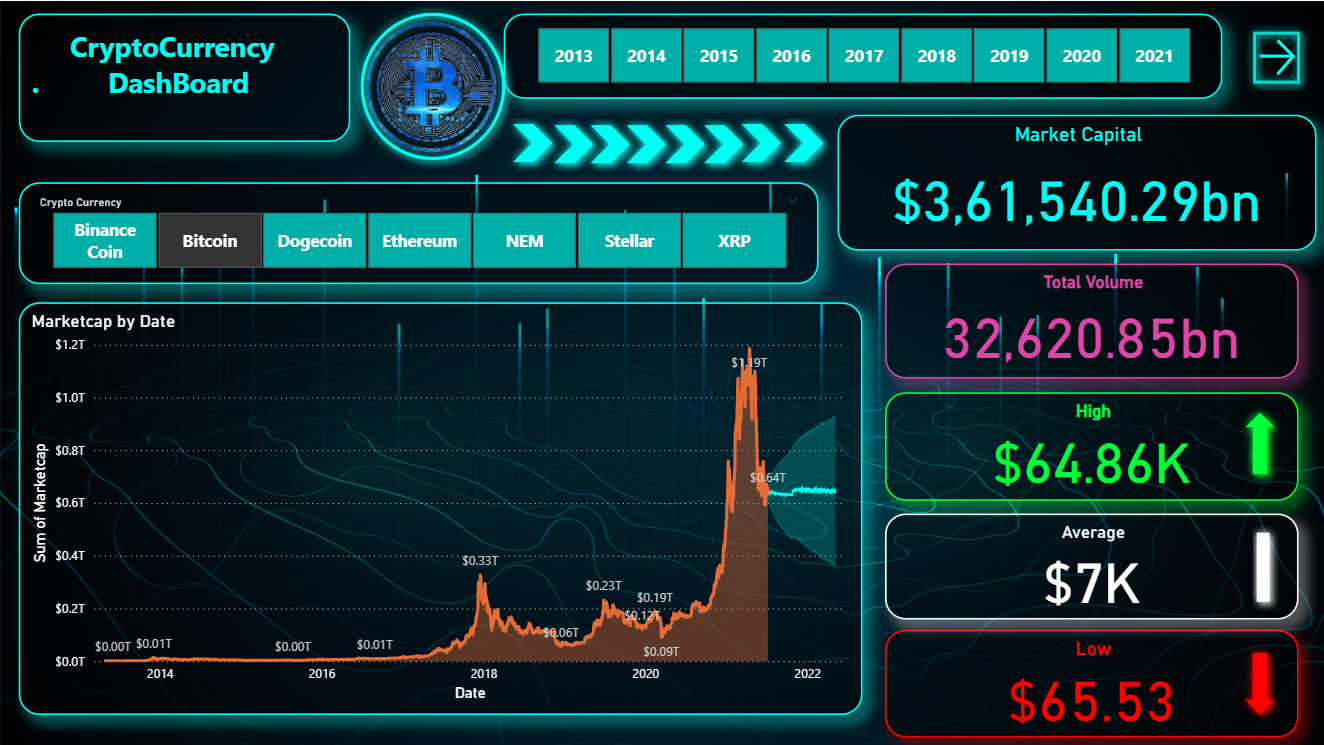

What the dashboard file says about the page in this screenshot:
{"tool":"powerbi","page":{"name":"Market Capital","canvas":[1280,720],"ordinal":1},"visuals":[{"type":"slicer","fields":{"Values":["data.Name"]},"box":[18.6,175,772.1,98.1],"z":0},{"type":"slicer","fields":{"Values":["data.Year"]},"box":[486.2,12.1,693.7,82],"z":1000},{"type":"lineChart","title":"Marketcap by Date","fields":{"Category":["data.Date"],"Y":["Sum(data.Marketcap)"]},"box":[18.6,290.5,814.3,398.5],"z":2000},{"type":"actionButton","box":[1200.3,21.1,63.3,68.3],"z":3000},{"type":"textbox","box":[18.6,12.4,320.3,124.1],"z":4000},{"type":"image","box":[316.5,0,199.8,166.3],"z":5000},{"type":"card","title":"Low","fields":{"Values":["Min(data.Low)"]},"box":[854.2,606.8,399.3,103.8],"z":6000},{"type":"card","title":"Market Capital","fields":{"Values":["Sum(data.Marketcap)"]},"box":[808.3,109.8,462.1,131.5],"z":7000},{"type":"card","title":"Average","fields":{"Values":["Avg(data.Average)"]},"box":[854.2,494.6,399.3,102.5],"z":8000},{"type":"card","title":"High","fields":{"Values":["Max(data.High)"]},"box":[854.2,377.6,399.3,105],"z":9000},{"type":"card","title":"Total Volume","fields":{"Values":["Sum(data.Volume)"]},"box":[854.2,253.4,399.3,111],"z":10000},{"type":"shape","box":[1193.2,388.5,45.8,77.2],"z":11000},{"type":"shape","box":[1193.2,620.1,45.8,77.2],"z":12000},{"type":"shape","box":[1204,504.3,30.2,84.5],"z":13000},{"type":"shape","box":[486.6,109.2,55.9,54.6],"z":15000},{"type":"shape","box":[526.3,110.5,55.9,54.6],"z":16000},{"type":"shape","box":[561.1,110.5,55.9,54.6],"z":17000},{"type":"shape","box":[595.8,110.5,55.9,54.6],"z":18000},{"type":"shape","box":[633.1,110.5,55.9,54.6],"z":19000},{"type":"shape","box":[670.3,110.5,55.9,54.6],"z":20000},{"type":"shape","box":[707.5,109.2,55.9,54.6],"z":21000},{"type":"shape","box":[748.5,109.2,55.9,54.6],"z":22000},{"type":"shape","box":[338.9,2.5,157.6,160.1],"z":23000}]}

Visuals, with their boxes in screenshot pixels (x1, y1, x2, y2), scaled from the page's 1280x720 canvas onto the 1324x745 screenshot:
slicer - data.Name: l=19, t=181, r=818, b=283
slicer - data.Year: l=503, t=13, r=1220, b=97
"Marketcap by Date" lineChart: l=19, t=301, r=862, b=713
actionButton: l=1242, t=22, r=1307, b=93
textbox: l=19, t=13, r=351, b=141
image: l=327, t=0, r=534, b=172
"Low" card: l=884, t=628, r=1297, b=735
"Market Capital" card: l=836, t=114, r=1314, b=250
"Average" card: l=884, t=512, r=1297, b=618
"High" card: l=884, t=391, r=1297, b=499
"Total Volume" card: l=884, t=262, r=1297, b=377
shape: l=1234, t=402, r=1282, b=482
shape: l=1234, t=642, r=1282, b=722
shape: l=1245, t=522, r=1277, b=609
shape: l=503, t=113, r=561, b=169
shape: l=544, t=114, r=602, b=171
shape: l=580, t=114, r=638, b=171
shape: l=616, t=114, r=674, b=171
shape: l=655, t=114, r=713, b=171
shape: l=693, t=114, r=751, b=171
shape: l=732, t=113, r=790, b=169
shape: l=774, t=113, r=832, b=169
shape: l=351, t=3, r=514, b=168
